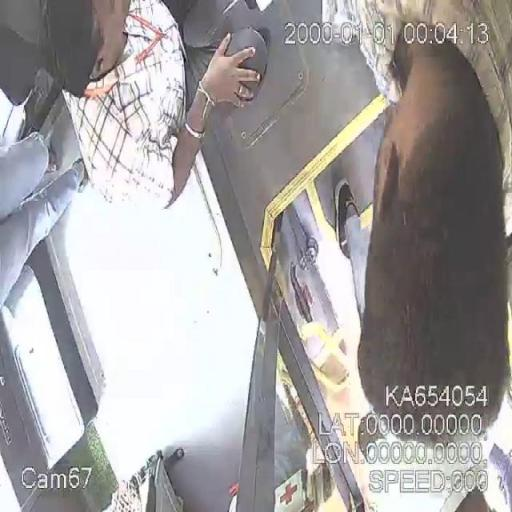persona: (300, 0, 512, 472), (37, 0, 268, 216)
